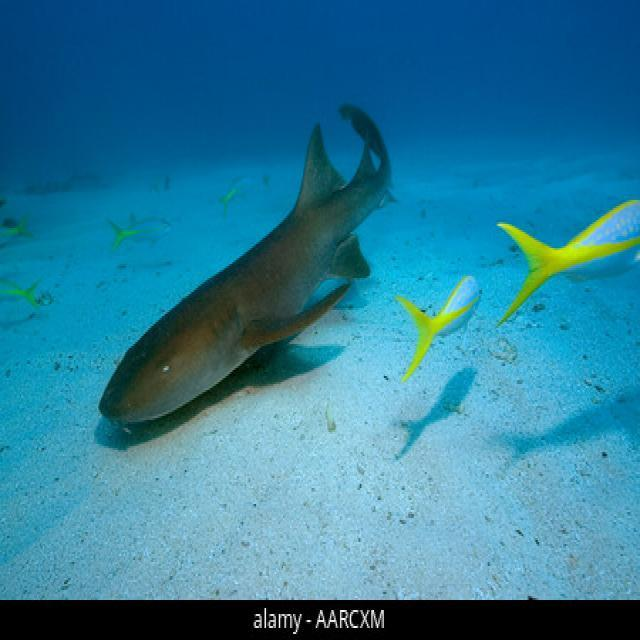Shark: (64, 50, 425, 454)
